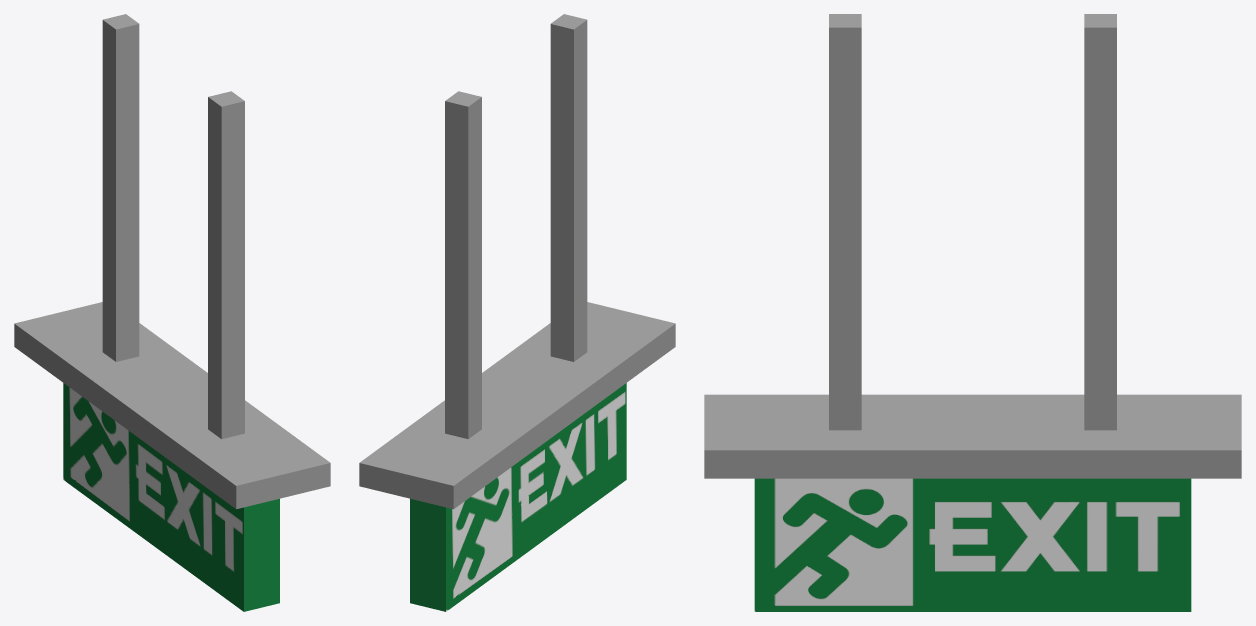
The model's file is Exitbord.fbx.
3 renders of one model, left to right at view 1: azimuth 30°, elevation 25°; view 2: azimuth 150°, elevation 25°; view 3: azimuth 270°, elevation 25°, orthographic. The views are drawn at different scales.
Visible parts, largest first — view 1: pCube4, pCube5; view 2: pCube4, pCube5; view 3: pCube4, pCube5.
Part boxes in pixels (<box>): pCube4: <box>14,302,330,611</box>; pCube5: <box>102,14,244,439</box>; pCube4: <box>359,302,675,611</box>; pCube5: <box>445,14,587,439</box>; pCube4: <box>704,394,1241,611</box>; pCube5: <box>829,14,1116,430</box>.
Size of the model in its own units: 0.7928 by 3.85 by 3.23.
